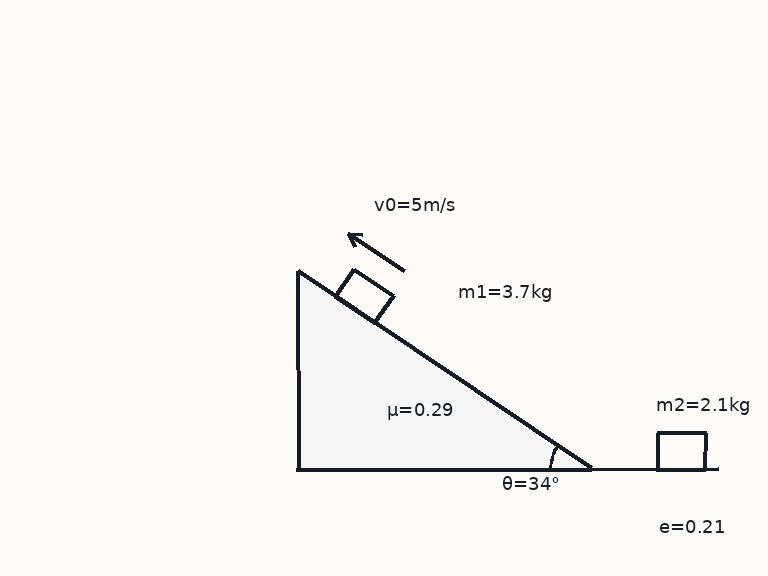block: (333, 267, 395, 325), (655, 431, 707, 471)
ramp: (295, 270, 592, 471)
